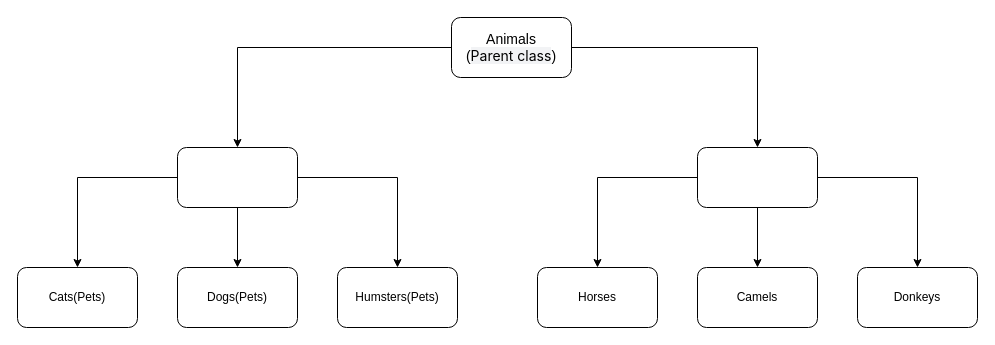
Image size: 995x345. Some labels were removed from this diagram. The box of each missing label's shape, as (x1, y1, x2, y2) in pixels:
Pack animals(Anumals): (696, 146, 818, 208)
Pets(Anumals): (176, 146, 298, 208)
